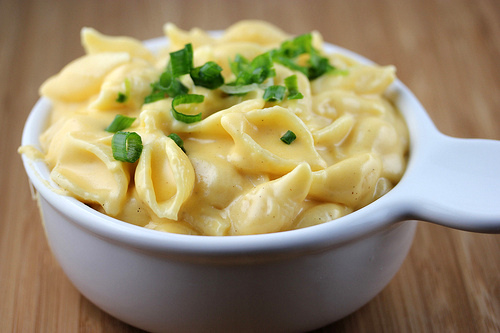macncheese: (16, 18, 412, 237)
